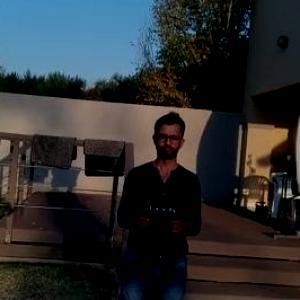follow: (110, 106, 206, 299)
